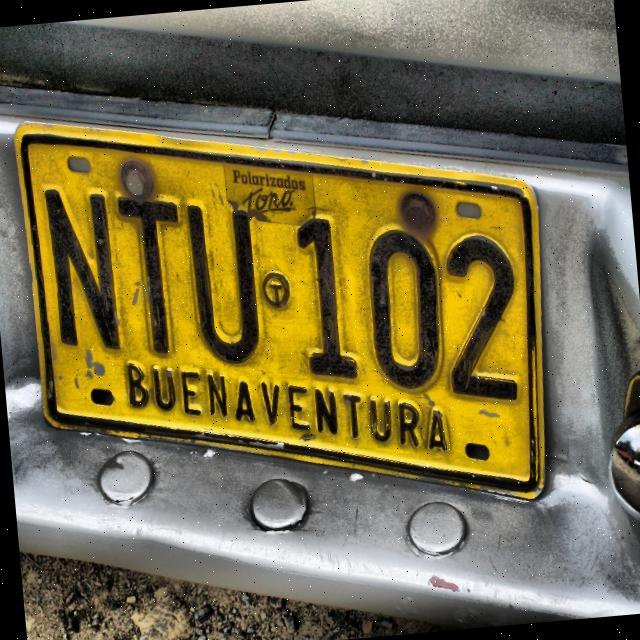0: (357, 224, 447, 397)
1: (285, 210, 366, 384)
2: (442, 229, 524, 408)
N: (35, 183, 125, 353)
T: (111, 189, 188, 360)
U: (181, 199, 268, 370)
